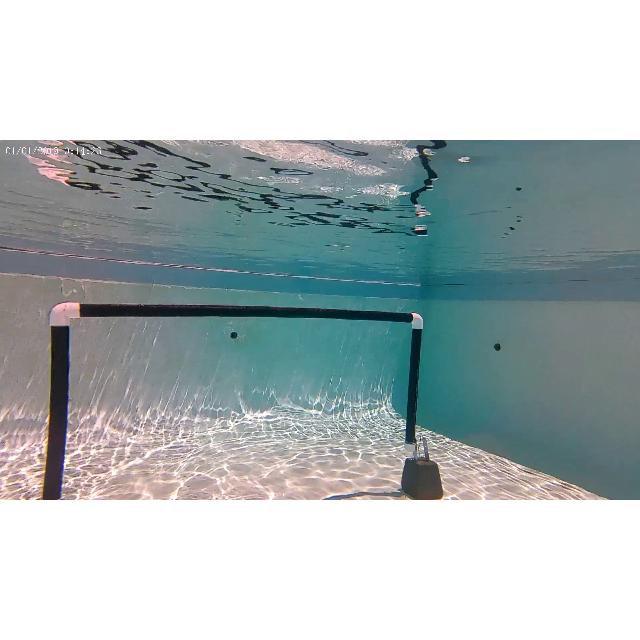prequal gate: (43, 302, 425, 500)
prequal gate leg l: (44, 299, 94, 497)
prequal gate leg r: (399, 307, 429, 469)
